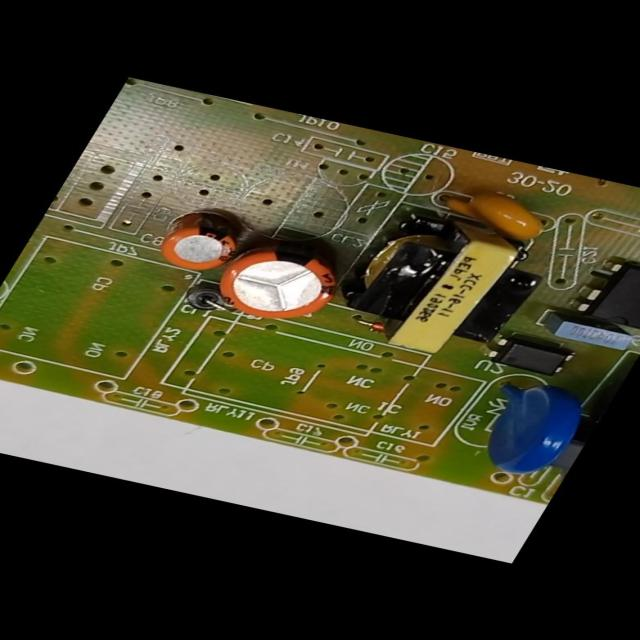Cap1: (208, 237, 353, 327)
Cap2: (148, 208, 250, 275)
MOSFET: (574, 258, 639, 332)
Mov: (462, 381, 592, 478)
Transformer: (330, 212, 556, 362)
